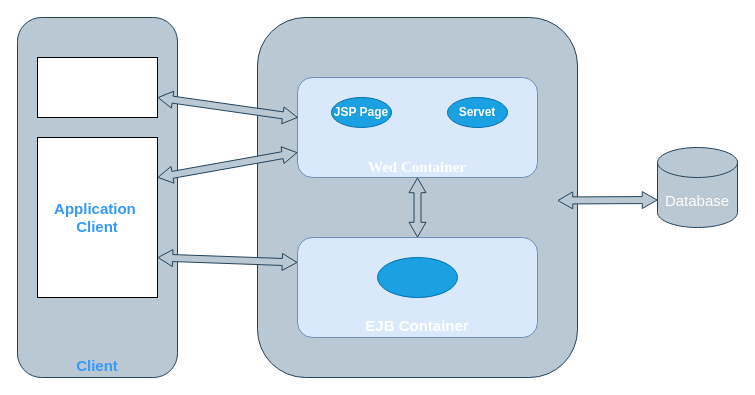
This 755x395 diagram has some shape labels left out. The shapes that lost their labels are listed below. From the top down, each one's box as (x1, y1, x2, y2) in pixels, then its label:
(36, 56, 158, 118): Web Browser
(256, 16, 578, 378): Server
(376, 256, 458, 298): Enterprise Bean
